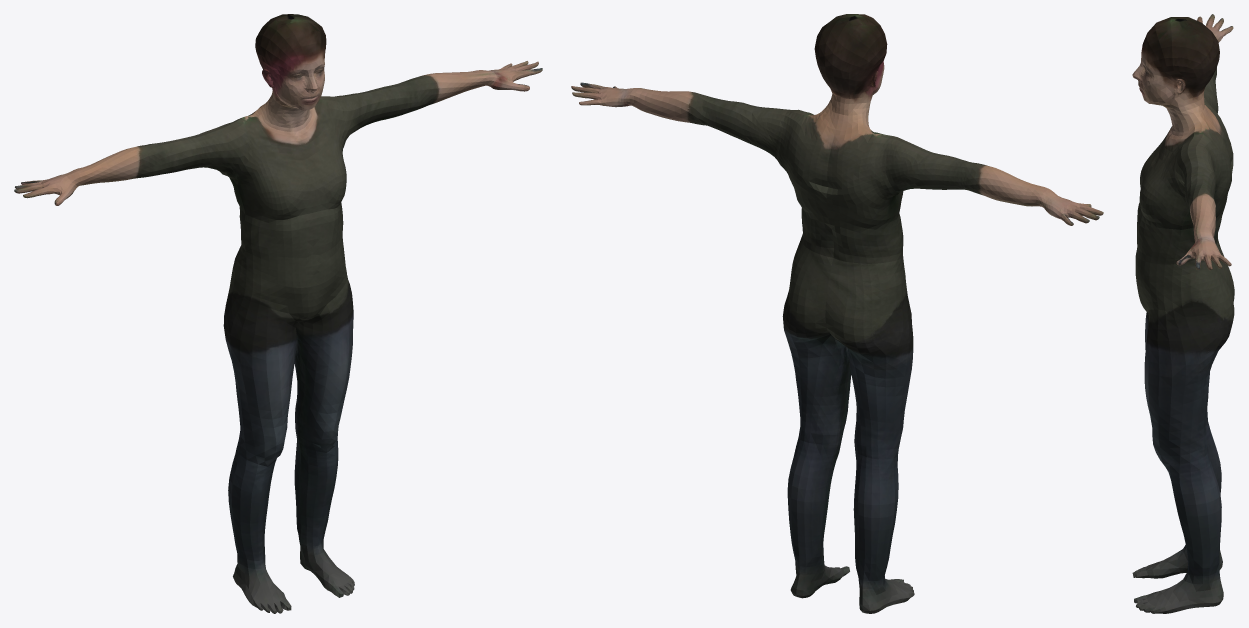
Rendered from female-with-texture.obj.
3 views of the same model, side by side, from view 1: azimuth 30°, elevation 25°; view 2: azimuth 150°, elevation 25°; view 3: azimuth 270°, elevation 25° (orthographic).
Parts seen in each view (by area): view 1: origin:Mesh; view 2: origin:Mesh; view 3: origin:Mesh.
Part boxes in pixels (<box>): origin:Mesh: <box>14,14,542,613</box>; origin:Mesh: <box>571,14,1103,613</box>; origin:Mesh: <box>1132,14,1234,613</box>.
Bounding box in the file's own units: 1.67 × 1.74 × 0.283.
1 material, 1 textured.
